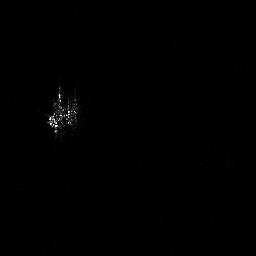ship: (45, 85, 81, 141)
